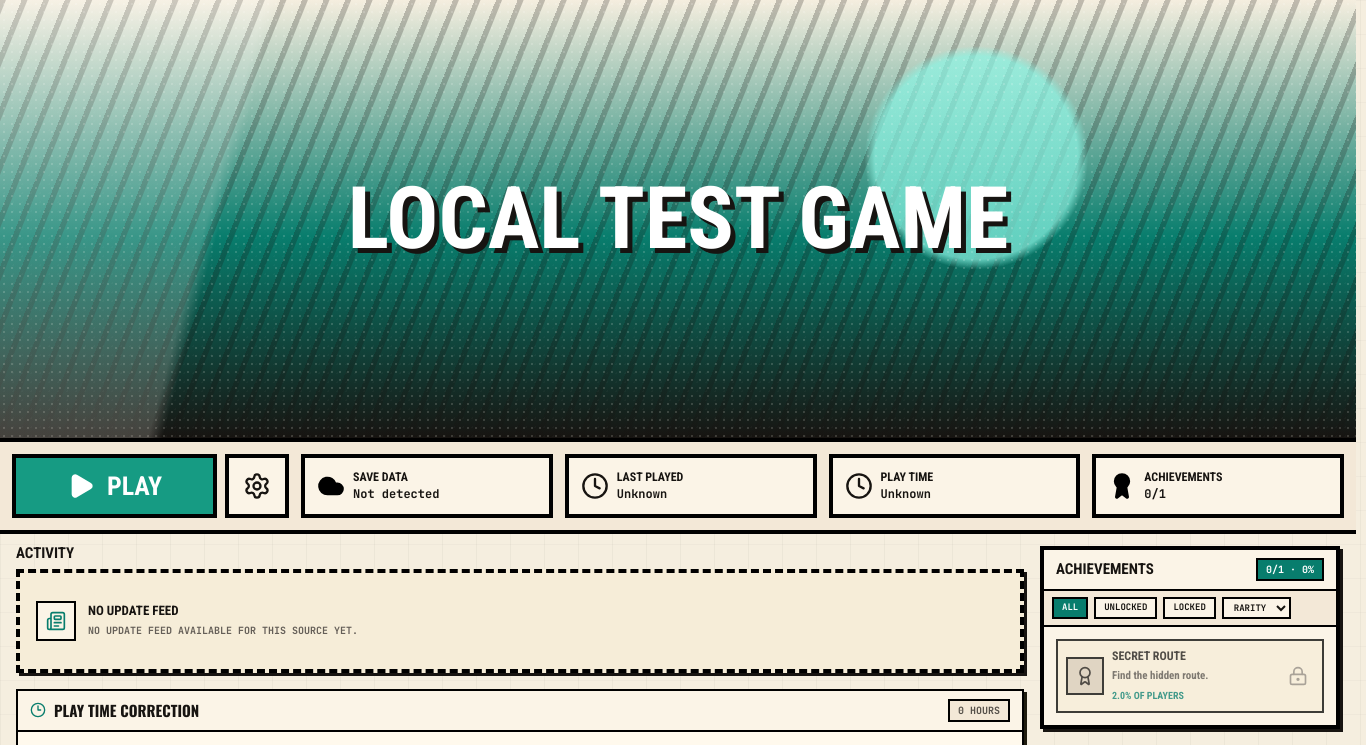
Test case: GameDetails actions › shows locked achievements in the viewer without an unlock date
Click the heading "Secret Route".
click(1149, 656)  # box x1=1112 y1=649 x2=1186 y2=663
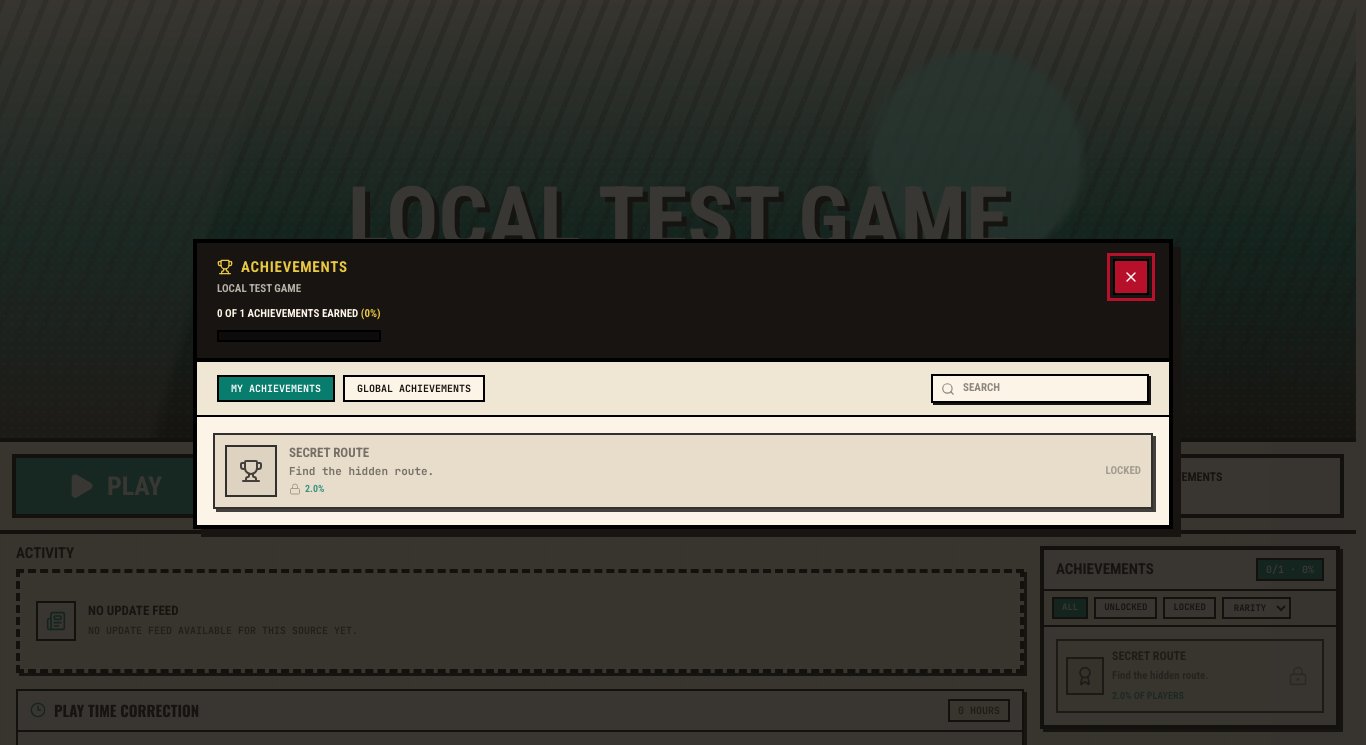
Result: the text "2.0%" is shown at x1=289 y1=483 x2=324 y2=495
